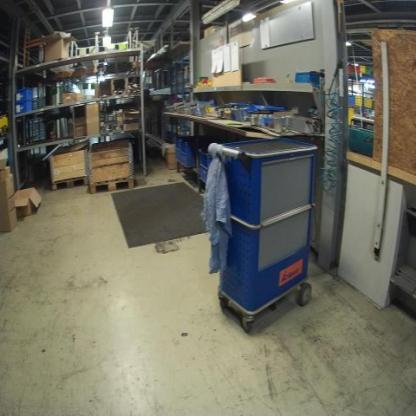pallet: (89, 175, 135, 195), (51, 175, 88, 193)
small_load_carrier: (199, 146, 213, 190), (181, 139, 196, 165), (11, 101, 33, 114), (15, 88, 32, 100), (172, 141, 184, 157)
